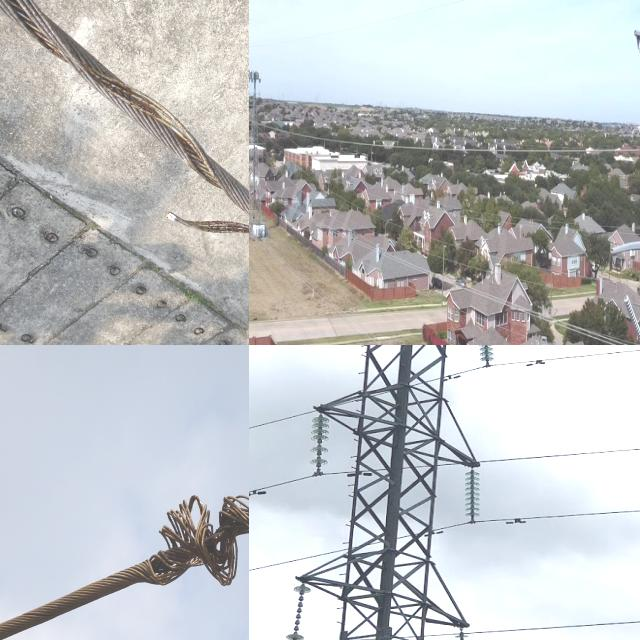杆塔: (283, 345, 498, 640), (249, 63, 268, 240)
正常绝缘子: (307, 406, 331, 478), (282, 573, 307, 640), (464, 461, 482, 525), (623, 292, 640, 344), (470, 345, 502, 368), (450, 624, 480, 640)
电缆破损: (76, 463, 249, 624)
绝缘子破损: (295, 616, 301, 623), (296, 605, 304, 610), (316, 452, 322, 458), (298, 598, 304, 604), (294, 622, 300, 628), (316, 440, 322, 445), (295, 612, 302, 616), (299, 593, 304, 598)
